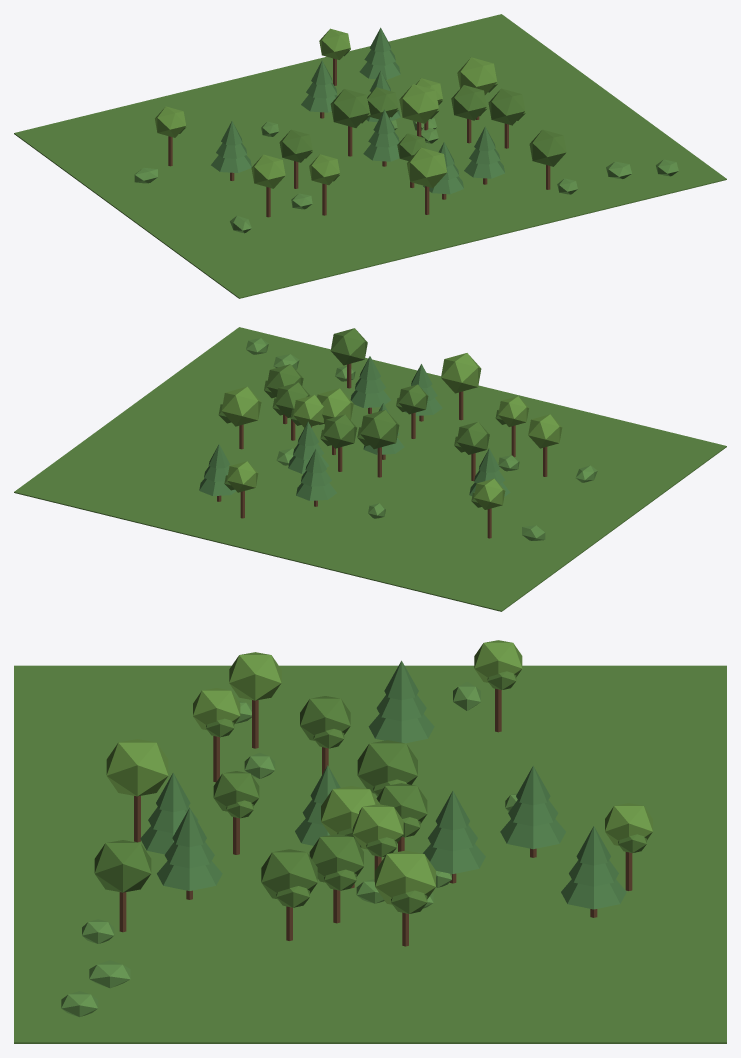
Rendered from Kir_alan_koru_1_Hafif.fbx.
The picture shows the model from 3 angles, top to bottom: view 1: azimuth 30°, elevation 25°; view 2: azimuth 150°, elevation 25°; view 3: azimuth 270°, elevation 25°; orthographic projection. The views are drawn at different scales.
Parts seen in each view (by area): view 1: Kir_alan_koru_1_Hafif; view 2: Kir_alan_koru_1_Hafif; view 3: Kir_alan_koru_1_Hafif.
Part boxes in pixels (x1,y1,x2,y2): Kir_alan_koru_1_Hafif: (14, 14, 726, 298); Kir_alan_koru_1_Hafif: (14, 327, 726, 611); Kir_alan_koru_1_Hafif: (14, 640, 726, 1043).
Size of the model in its own units: 50 by 6.23 by 40.
